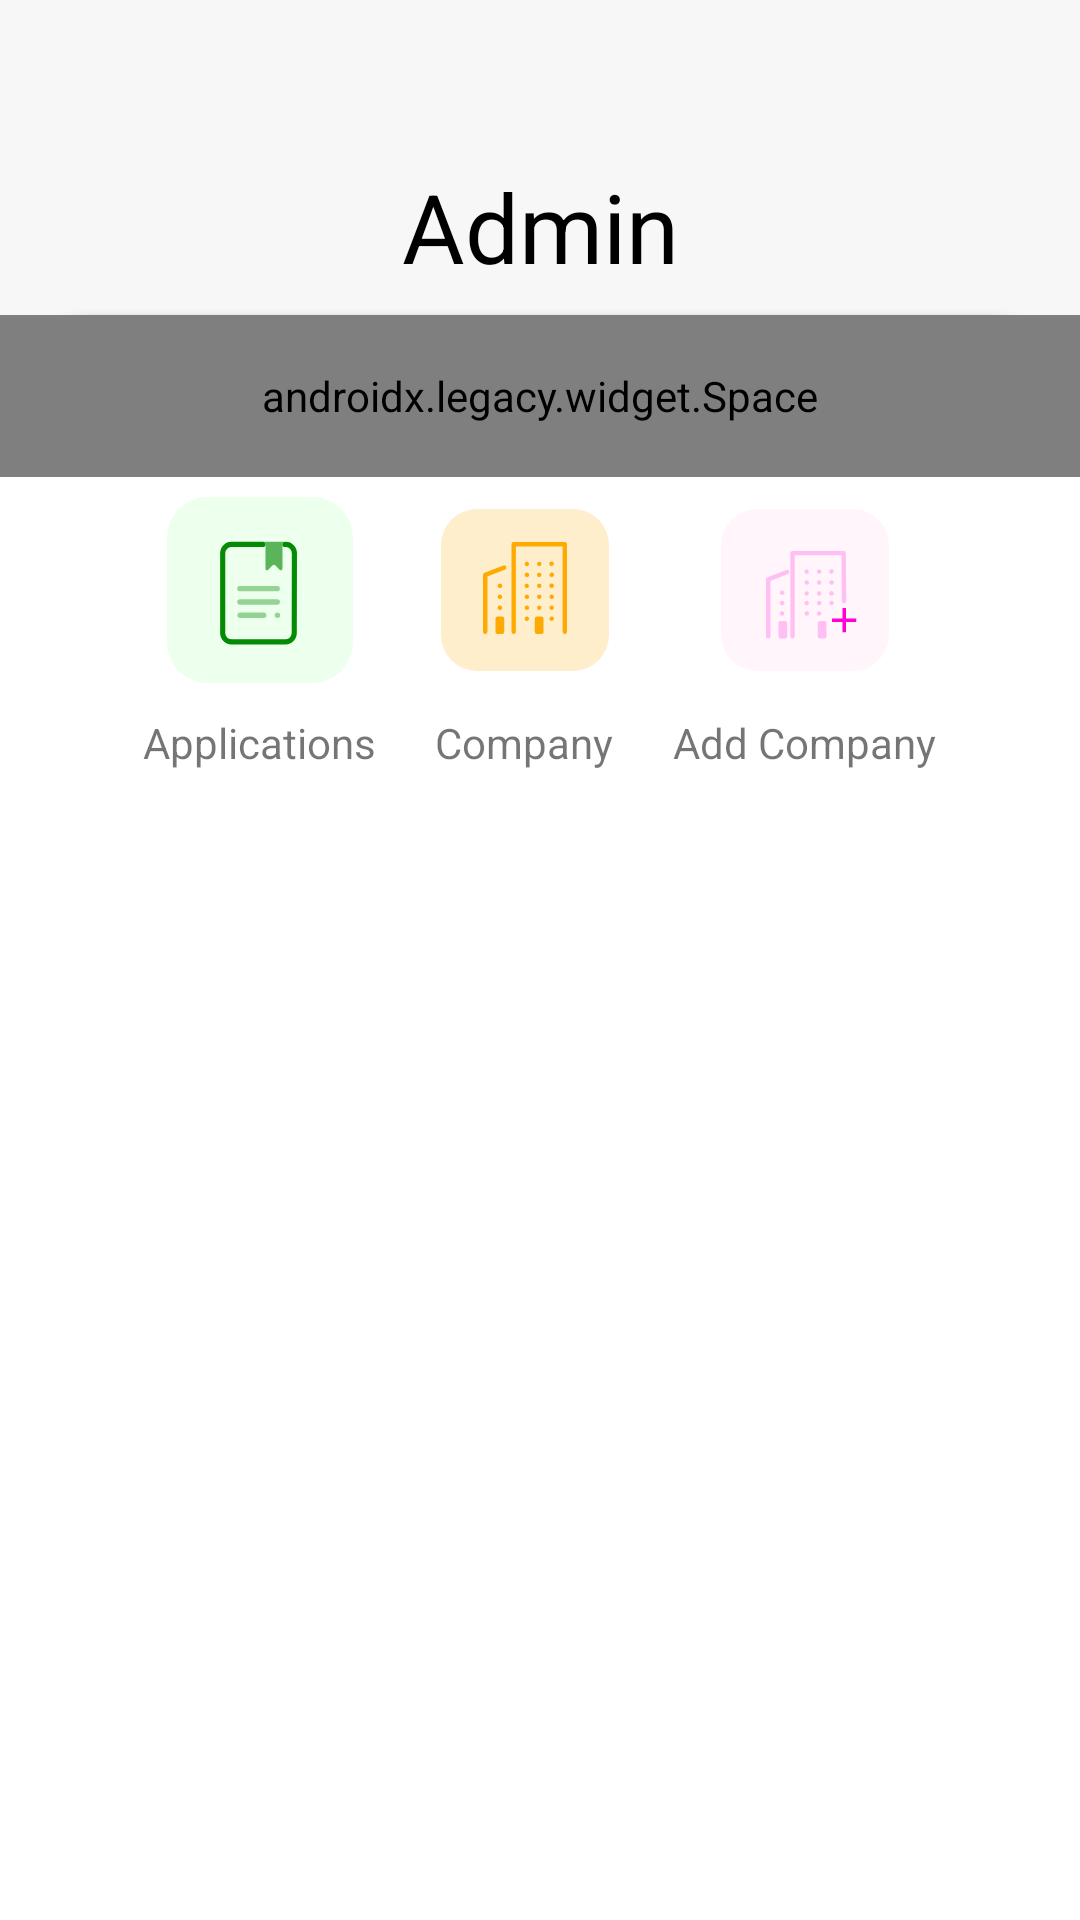

Where to tap for icons on this 1080 × 1920 app screen, as [x,y]:
view comp: [525,590]
view doc: [260,590]
